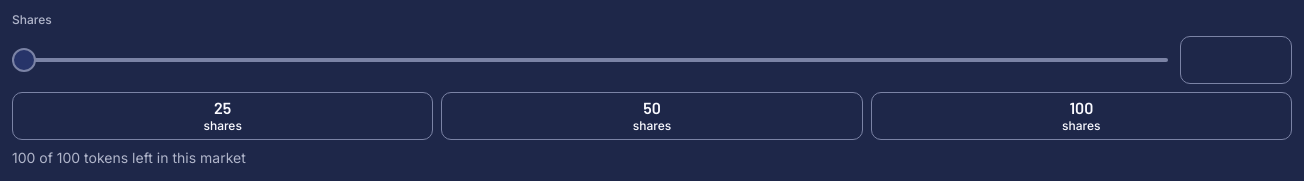
Test: SharesEntry › typing › what is pasted goes through the field as what is typed does
Click the field named "Number of shares": (1236, 60) [1180,36,1292,84]
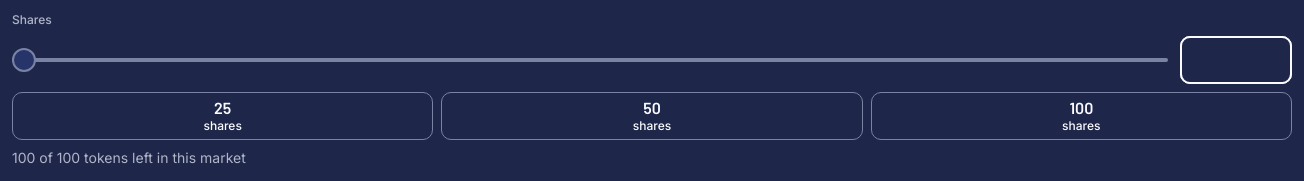
Type keys " CHF 12,50 "
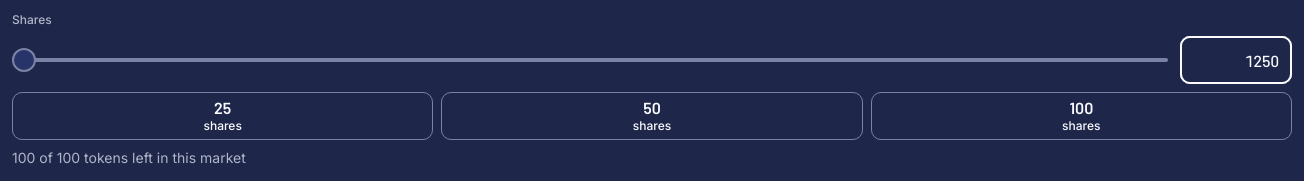
Now the field named "Number of shares" holds "1250", box [1180,36,1292,84]
